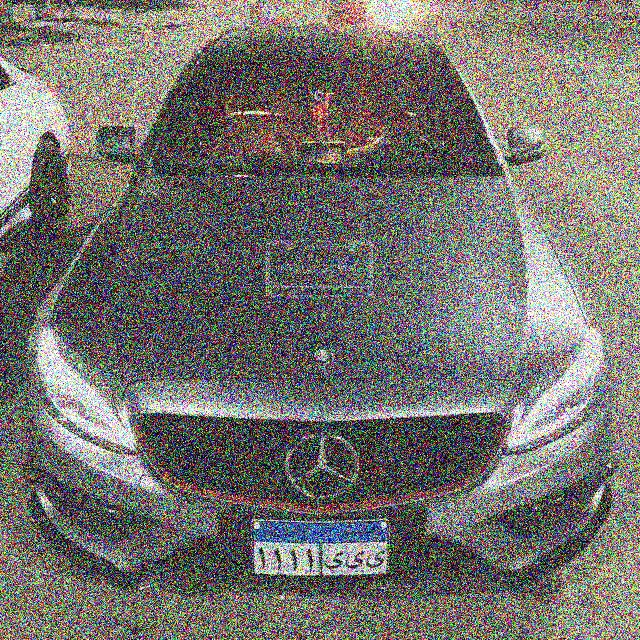License Plate: (248, 517, 393, 580)
